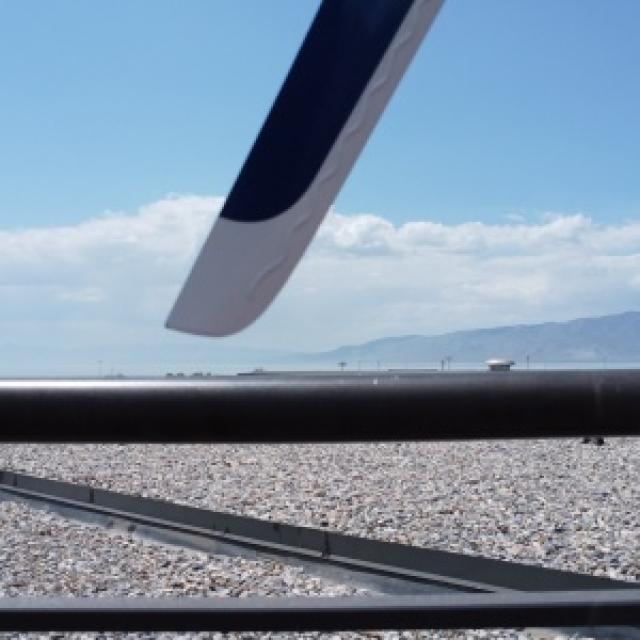healthy: (164, 0, 439, 331)
